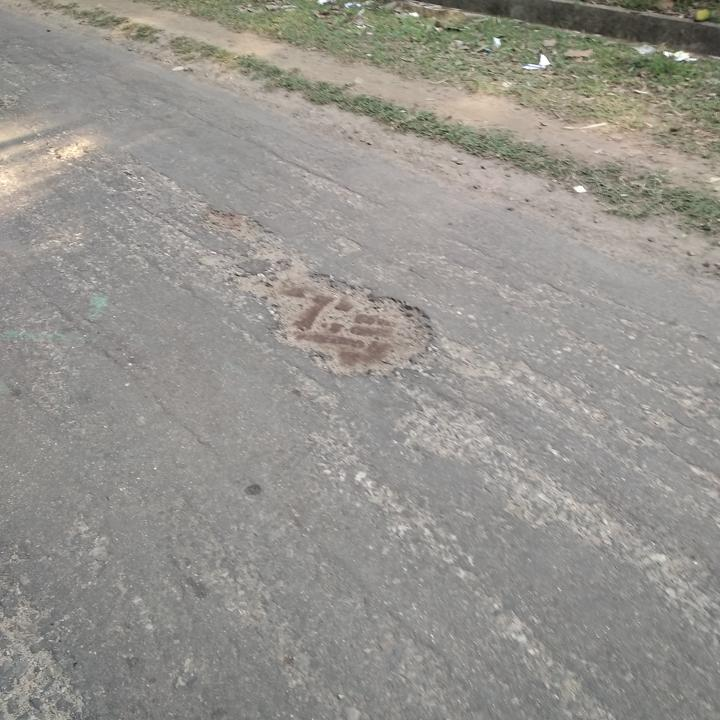pothole: (243, 260, 437, 379), (202, 207, 266, 241)
